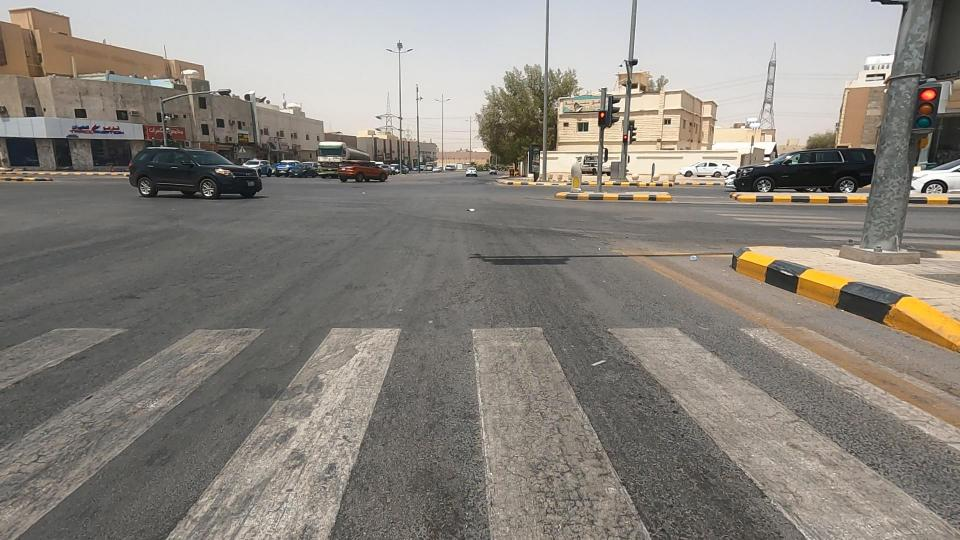GARBAGE: (434, 183, 506, 228), (671, 241, 719, 272)
